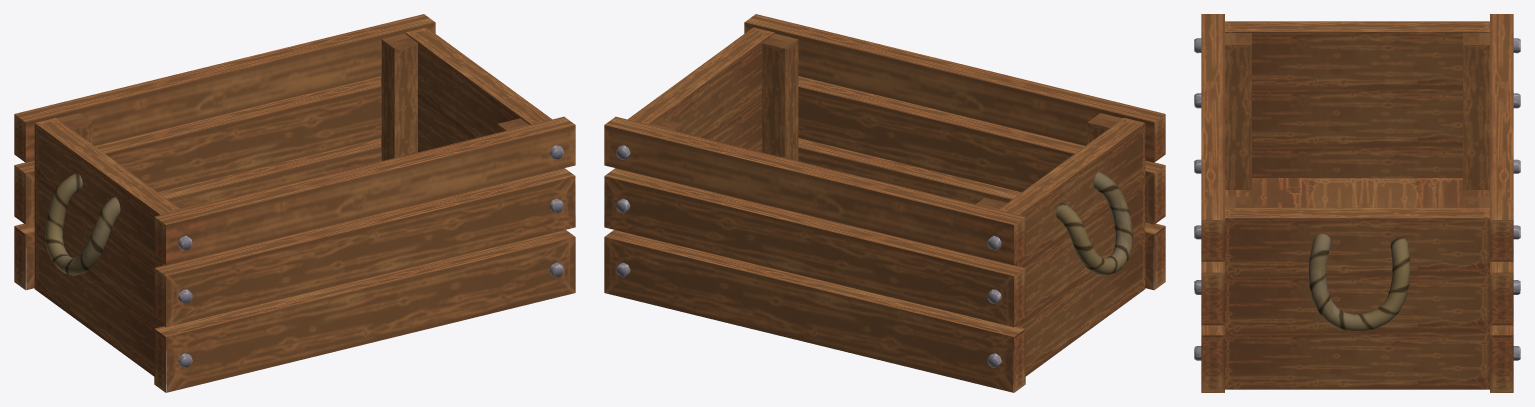
File: prop_crate_001.glb
The picture shows the model from 3 angles, left to right: view 1: azimuth 30°, elevation 25°; view 2: azimuth 150°, elevation 25°; view 3: azimuth 270°, elevation 25°; orthographic projection. The views are drawn at different scales.
Parts seen in each view (by area): view 1: FarmCrate_Empty; view 2: FarmCrate_Empty; view 3: FarmCrate_Empty.
Boxes of the visible parts, bbox=[...] form: FarmCrate_Empty: bbox=[14, 14, 575, 392]; FarmCrate_Empty: bbox=[604, 14, 1165, 392]; FarmCrate_Empty: bbox=[1194, 14, 1520, 392].
Size of the model in its own units: 0.7138 by 0.2438 by 0.4142.
Materials: 2 (2 with a texture image).
